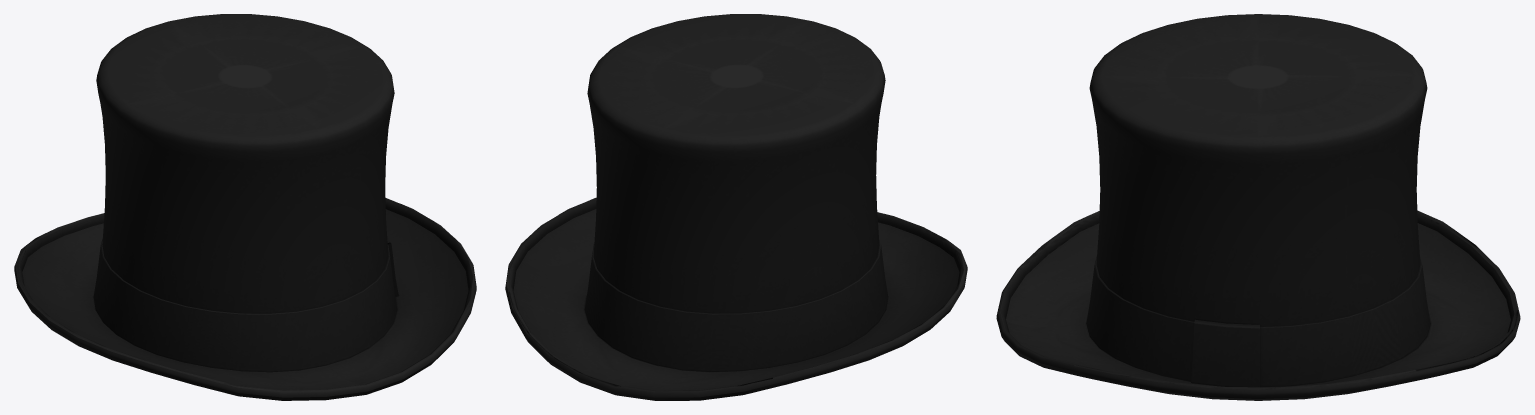
File: top_hat__free_download.glb
3 views of the same model, side by side, from view 1: azimuth 30°, elevation 25°; view 2: azimuth 150°, elevation 25°; view 3: azimuth 270°, elevation 25° (orthographic). The views are drawn at different scales.
Visible parts, largest first — view 1: Circle; view 2: Circle; view 3: Circle.
Boxes of the visible parts, box(x1,y1,x2,y2) form: Circle: box(14, 14, 476, 400); Circle: box(505, 14, 967, 400); Circle: box(996, 14, 1520, 400).
Size of the model in its own units: 2.53 by 1.46 by 2.74.
Materials: 1 (1 with a texture image).
